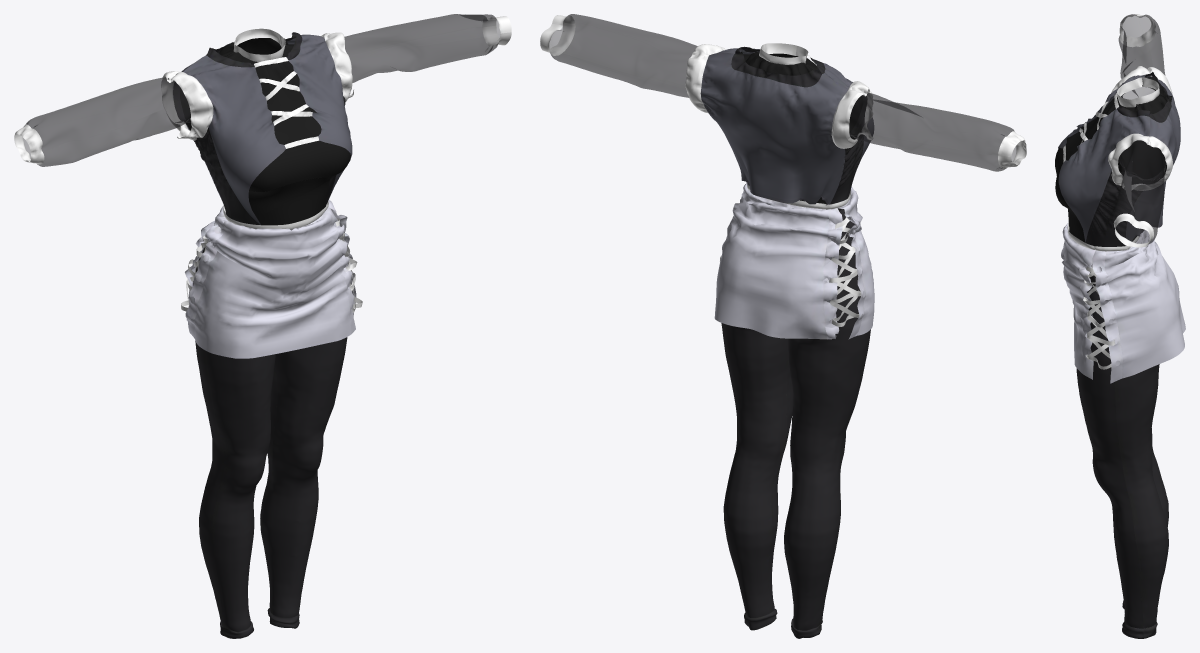
File: G_clothe9_new.glb
3 renders of one model, left to right at view 1: azimuth 30°, elevation 25°; view 2: azimuth 150°, elevation 25°; view 3: azimuth 270°, elevation 25°, orthographic. The views are drawn at different scales.
Visible parts, largest first — view 1: Garment; view 2: Garment; view 3: Garment.
Boxes of the visible parts, bbox=[...] form: Garment: bbox=[14, 14, 511, 638]; Garment: bbox=[540, 14, 1026, 638]; Garment: bbox=[1055, 14, 1185, 638].
Size of the model in its own units: 1.15 by 1.35 by 0.2986.
Materials: 1 (1 with a texture image).
